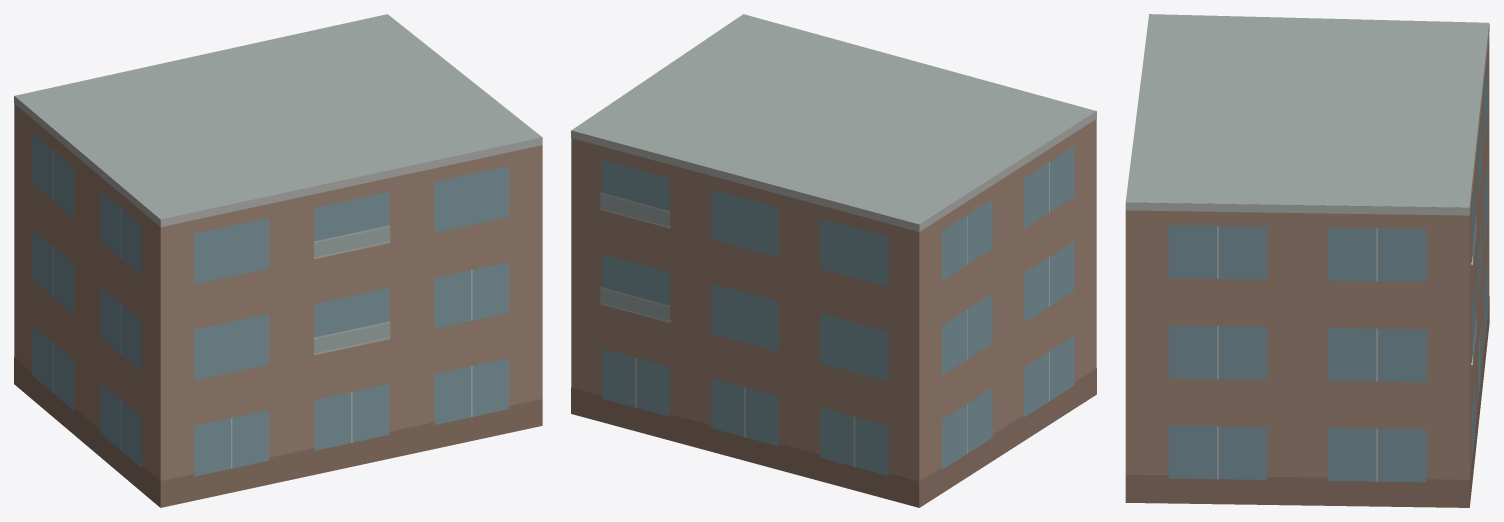
File: survey-upis-32814257.glb
3 renders of one model, left to right at view 1: azimuth 30°, elevation 25°; view 2: azimuth 150°, elevation 25°; view 3: azimuth 270°, elevation 25°, orthographic. The views are drawn at different scales.
Parts seen in each view (by area): view 1: survey-upis-32814257.tmp; view 2: survey-upis-32814257.tmp; view 3: survey-upis-32814257.tmp.
Part boxes in pixels (box(x1,y1,x2,y2)): survey-upis-32814257.tmp: box(14, 14, 542, 507); survey-upis-32814257.tmp: box(571, 14, 1096, 507); survey-upis-32814257.tmp: box(1125, 14, 1489, 507).
Size of the model in its own units: 12.66 by 9.15 by 10.06.
